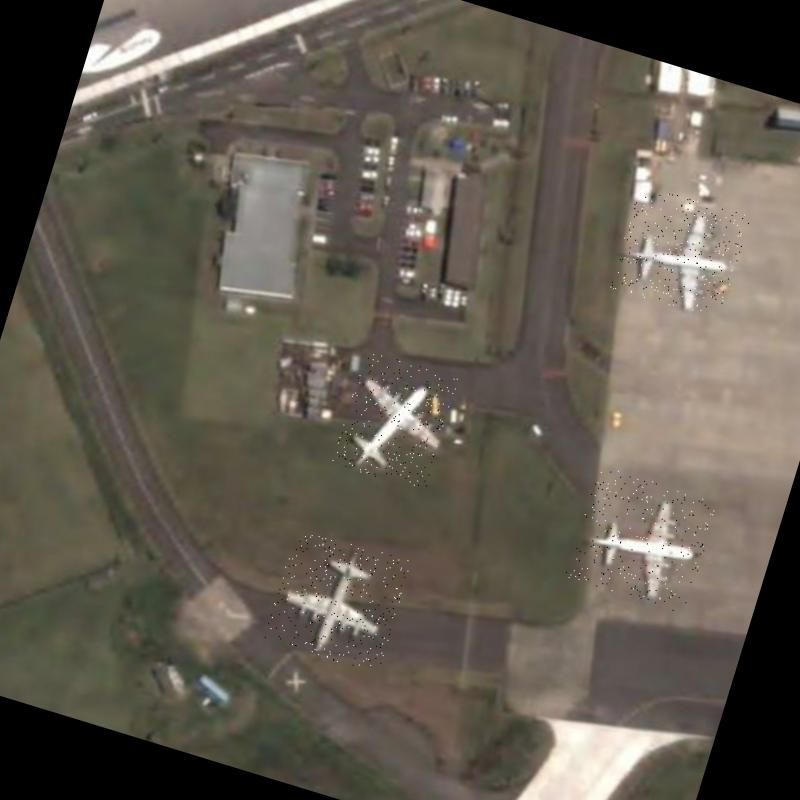A9: (564, 465, 719, 615), (263, 526, 412, 674), (609, 183, 751, 322), (332, 349, 461, 492)
